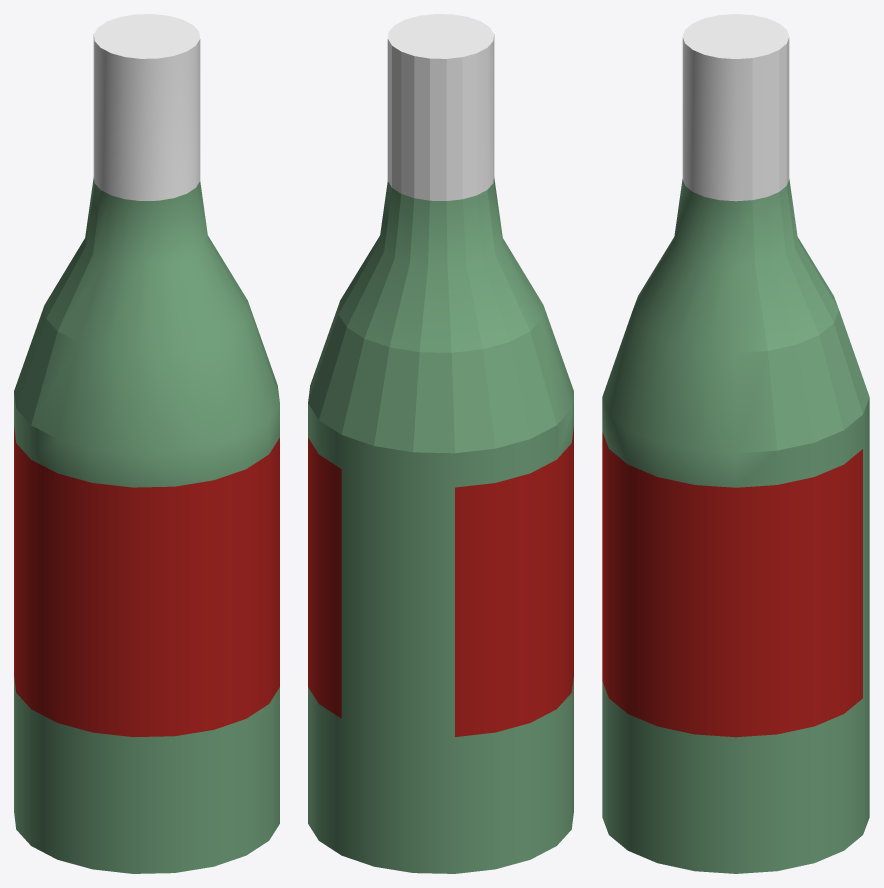
File: bottle03.fbx
The picture shows the model from 3 angles, left to right: view 1: azimuth 30°, elevation 25°; view 2: azimuth 150°, elevation 25°; view 3: azimuth 270°, elevation 25°; orthographic projection.
Parts seen in each view (by area): view 1: bottle03; view 2: bottle03; view 3: bottle03.
Boxes of the visible parts, <box> form: bottle03: <box>14,14,279,873</box>; bottle03: <box>308,14,573,873</box>; bottle03: <box>602,14,869,873</box>.
Bounding box in the file's own units: 0.4563 × 1.47 × 0.4563.
